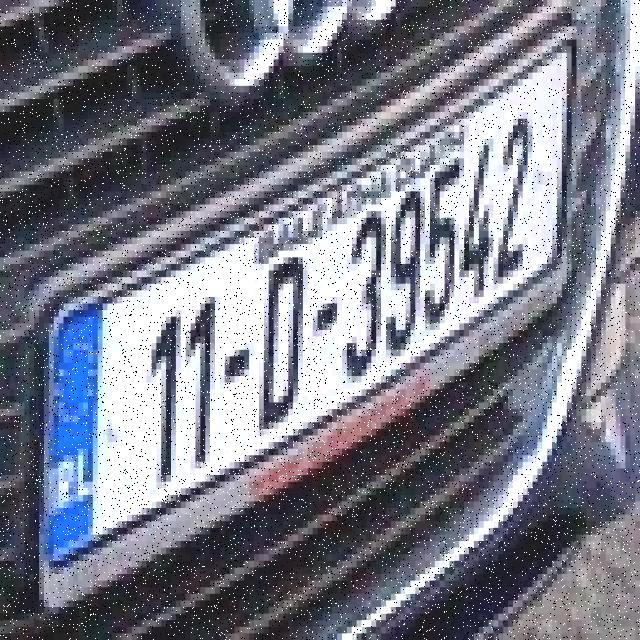licenseplate: (21, 8, 604, 590)
